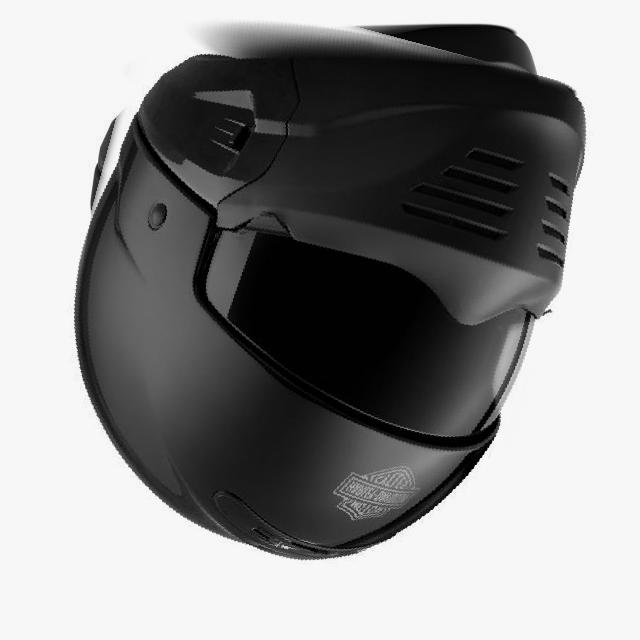helmet: (47, 0, 582, 585)
